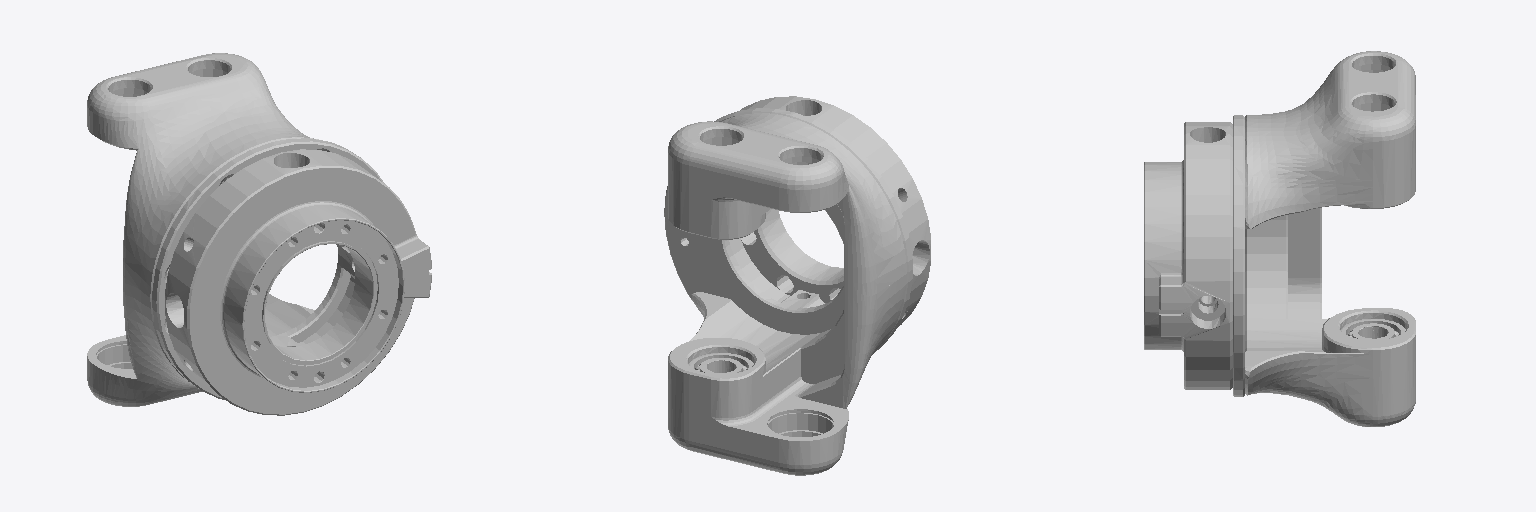
Rendered from head_pitch_link.obj.
3 views of the same model, side by side, from view 1: azimuth 30°, elevation 25°; view 2: azimuth 150°, elevation 25°; view 3: azimuth 270°, elevation 25° (orthographic).
Parts seen in each view (by area): view 1: head_pitch_link; view 2: head_pitch_link; view 3: head_pitch_link.
Part boxes in pixels (x1,y1,x2,y2): head_pitch_link: (87, 53, 431, 415); head_pitch_link: (664, 96, 930, 475); head_pitch_link: (1144, 51, 1415, 426).
Size of the model in its own units: 0.0461 by 0.0556 by 0.0445.